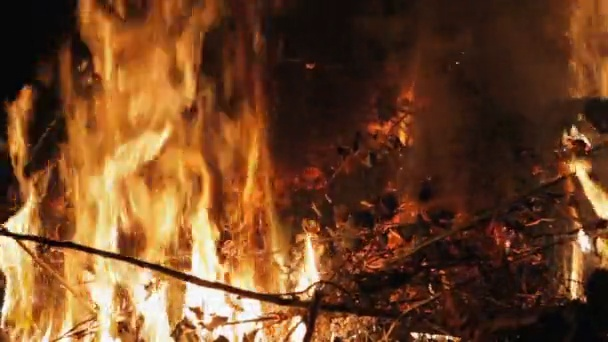fire: (2, 1, 319, 342), (568, 162, 608, 298), (564, 126, 592, 152)
